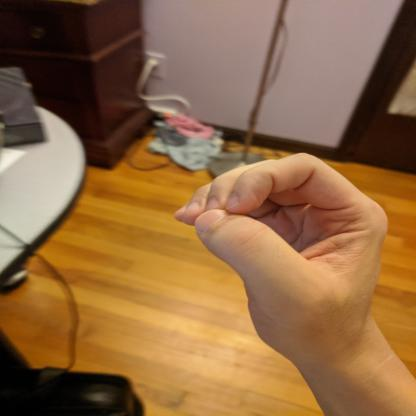O: (169, 148, 394, 361)
